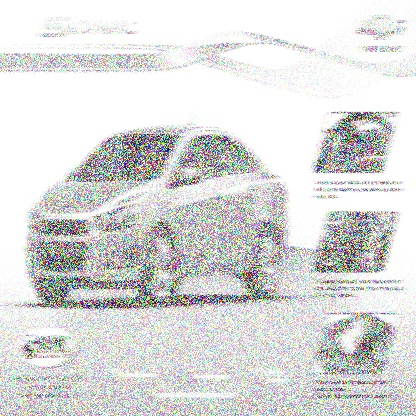Vehicle: (26, 93, 289, 306)
